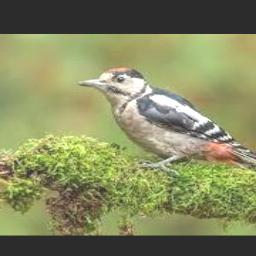Woodpecker: (78, 67, 256, 173)
